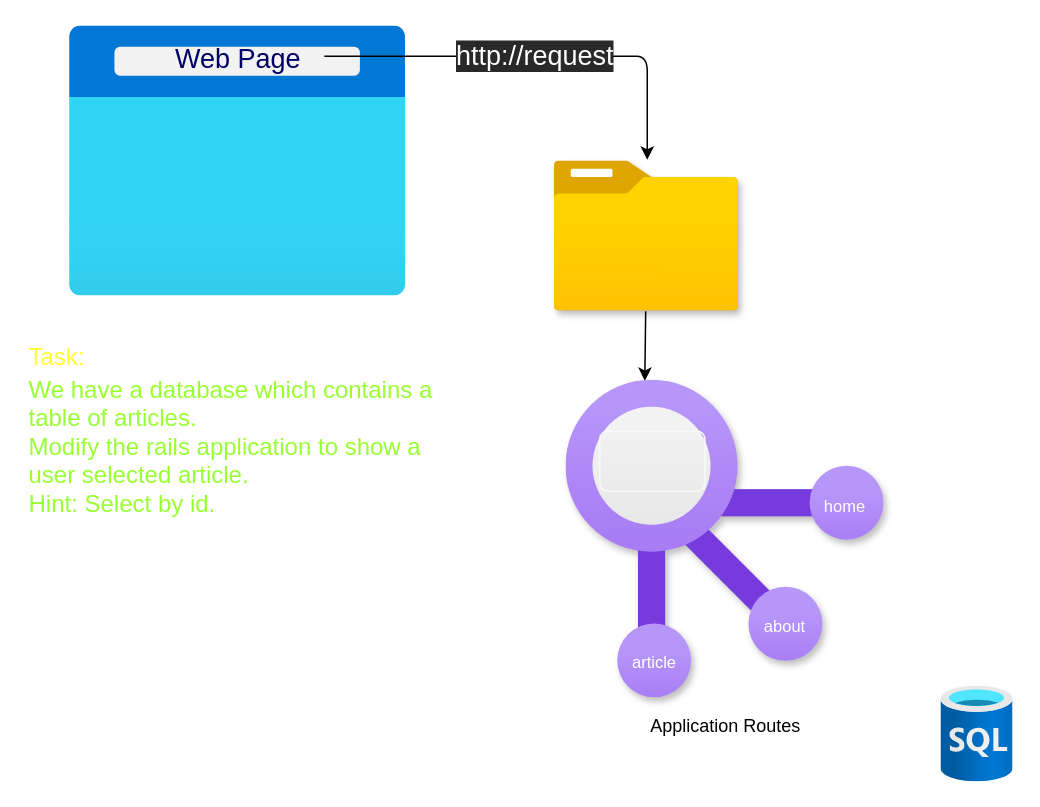
The diagram is 1040 pixels wide and 807 high, and some of its shapes have lost their labels. The centre of each missing label's shape, as x and y in pixels:
Config: [647,237]
routes.rb: [651,460]
